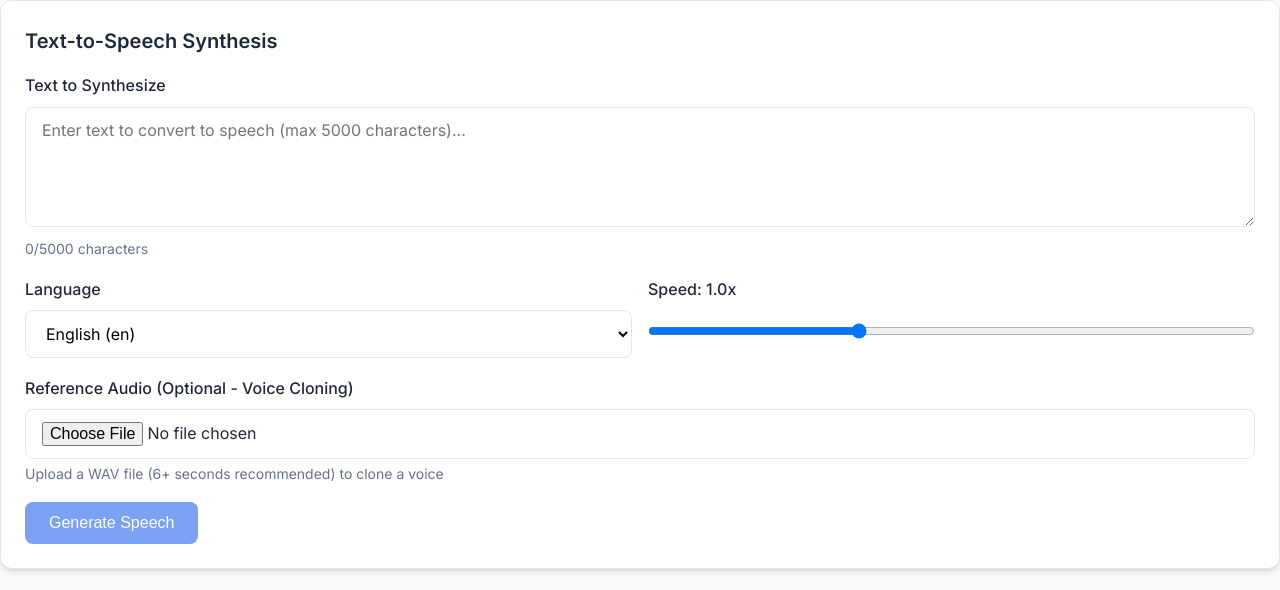
Test case: TTSForm › enables generate button when text is entered
The width and height of the screenshot is (1280, 590).
Type "Hello" into the text box labelled "Text to Synthesize".
click(640, 167); type("Hello")  # box [25, 107, 1255, 227]
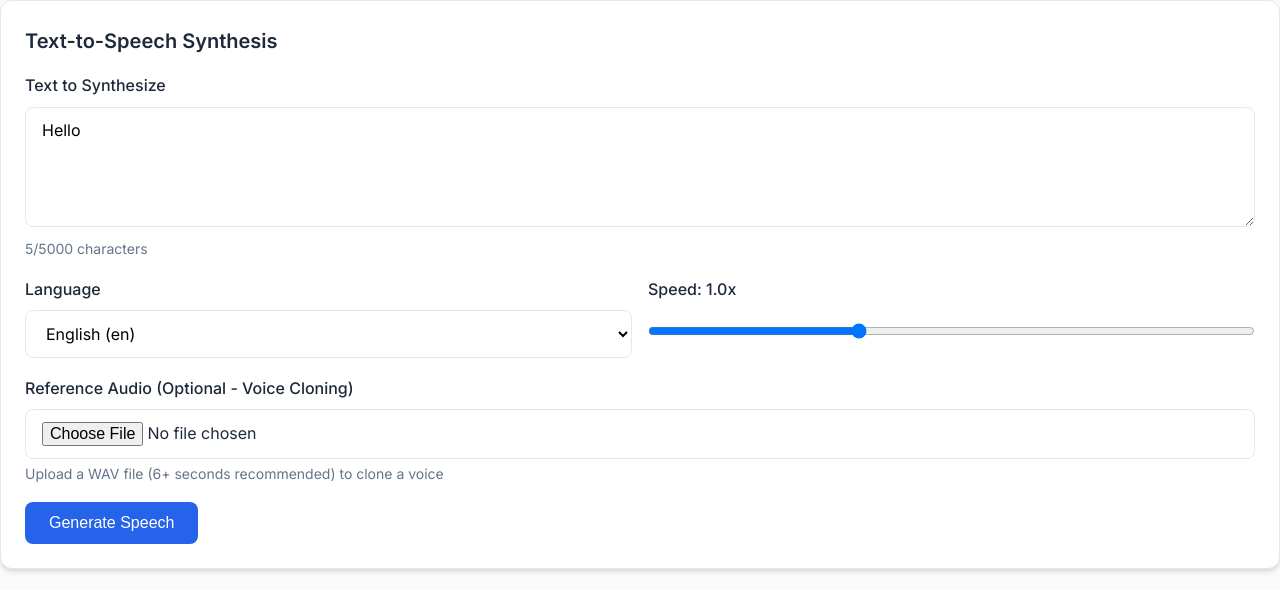
expect the button "Generate Speech" is enabled: met, box [25, 502, 198, 544]
